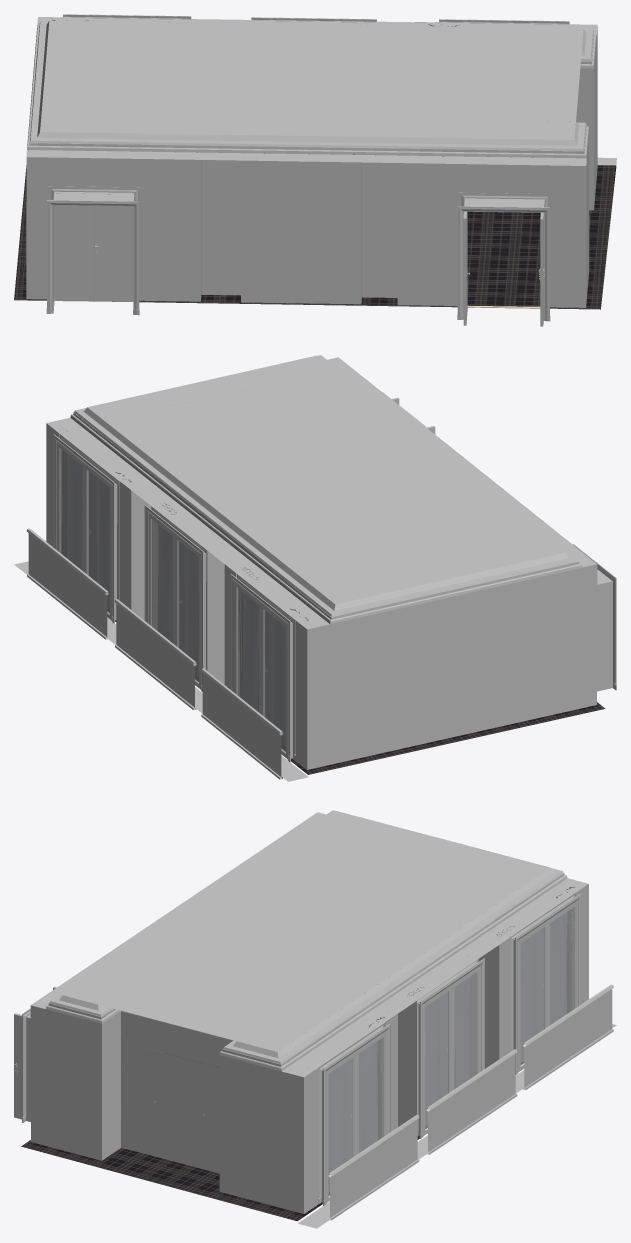
The model's file is SDB_SalonDebussy.fbx.
The picture shows the model from 3 angles, top to bottom: view 1: azimuth 30°, elevation 25°; view 2: azimuth 150°, elevation 25°; view 3: azimuth 270°, elevation 25°; orthographic projection. The views are drawn at different scales.
Parts seen in each view (by area): view 1: polySurface120, polySurface118, polySurface121; view 2: polySurface120, polySurface118, polySurface3, polySurface121; view 3: polySurface120, polySurface3, polySurface118, polySurface121.
Boxes of the visible parts, x1,y1,x2,y2 form: polySurface120: [14, 17, 616, 309]; polySurface118: [46, 14, 569, 326]; polySurface121: [27, 21, 596, 158]; polySurface120: [14, 355, 605, 781]; polySurface118: [53, 392, 616, 762]; polySurface3: [60, 449, 285, 751]; polySurface121: [70, 355, 582, 624]; polySurface120: [21, 810, 616, 1228]; polySurface3: [328, 907, 573, 1195]; polySurface118: [14, 892, 581, 1205]; polySurface121: [46, 810, 567, 1071].
Size of the model in its own units: 1279 by 323 by 1155.
